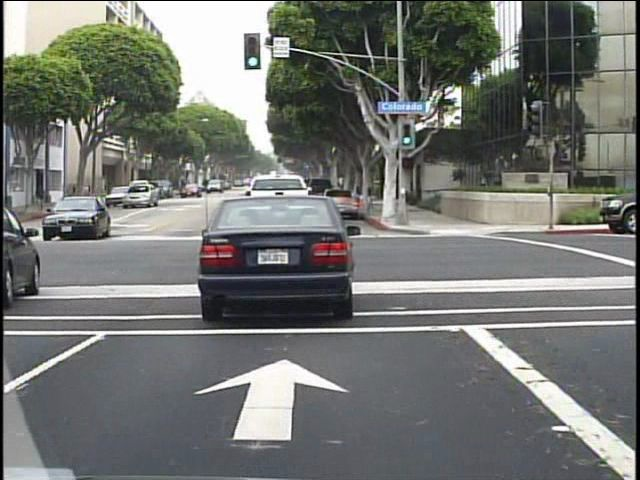person: (36, 182, 48, 212)
